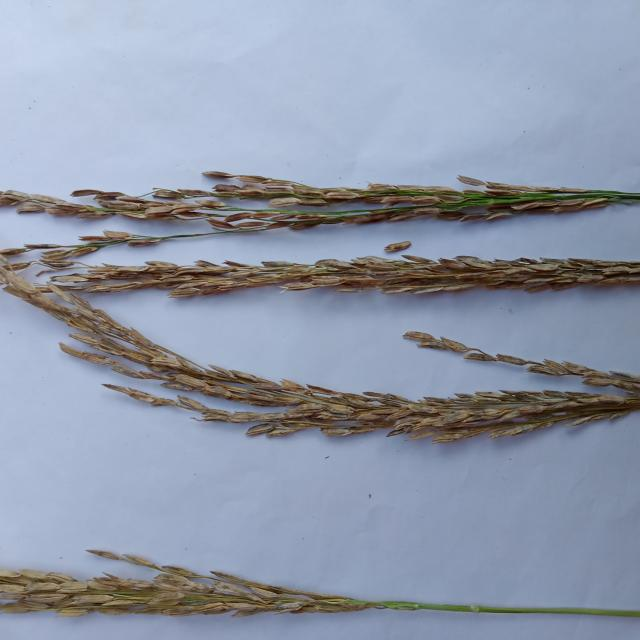Neck_Blast: (0, 281, 640, 437), (18, 176, 625, 225), (91, 255, 639, 292), (5, 573, 359, 615)
